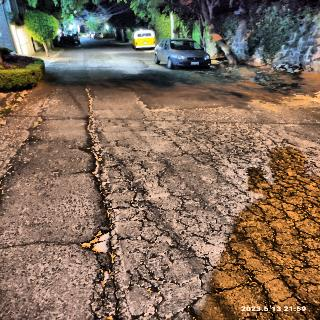alligator-crack: (104, 167, 209, 320), (200, 163, 320, 263), (198, 235, 320, 320), (214, 139, 320, 189), (260, 148, 271, 150)
crack: (153, 122, 320, 160), (78, 109, 99, 201), (94, 261, 121, 320), (0, 238, 104, 250)
